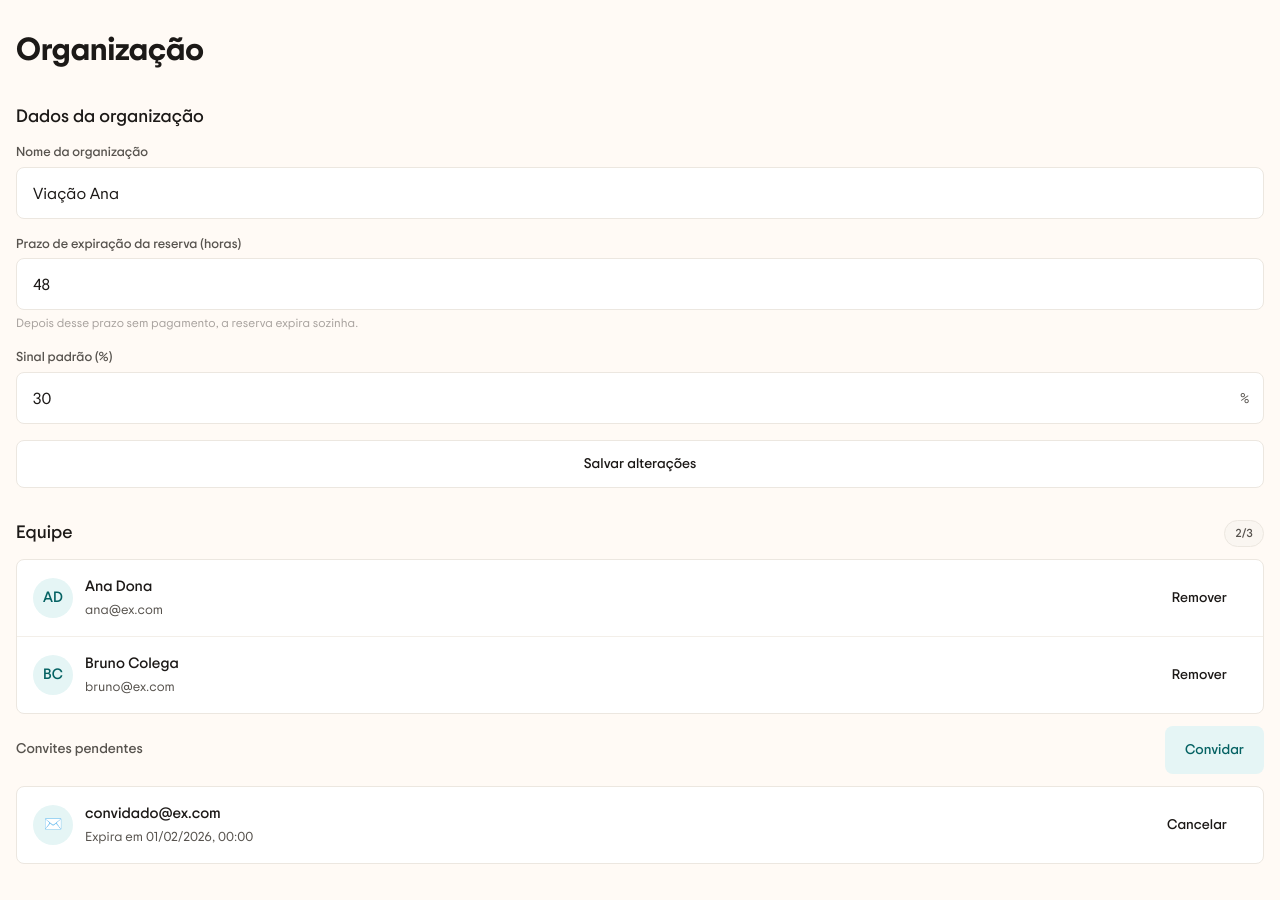
OrganizacaoPage › mostra o erro do backend ao tentar remover o último membro
Check: the text "Bruno Colega" is shown, box left=85, top=656, right=179, bottom=671
What coordinates should you click on to do the following:
click the button with aria-label "Remover Bruno Colega"
I would click on:
 (1199, 675)
Its box is left=1152, top=651, right=1247, bottom=699.
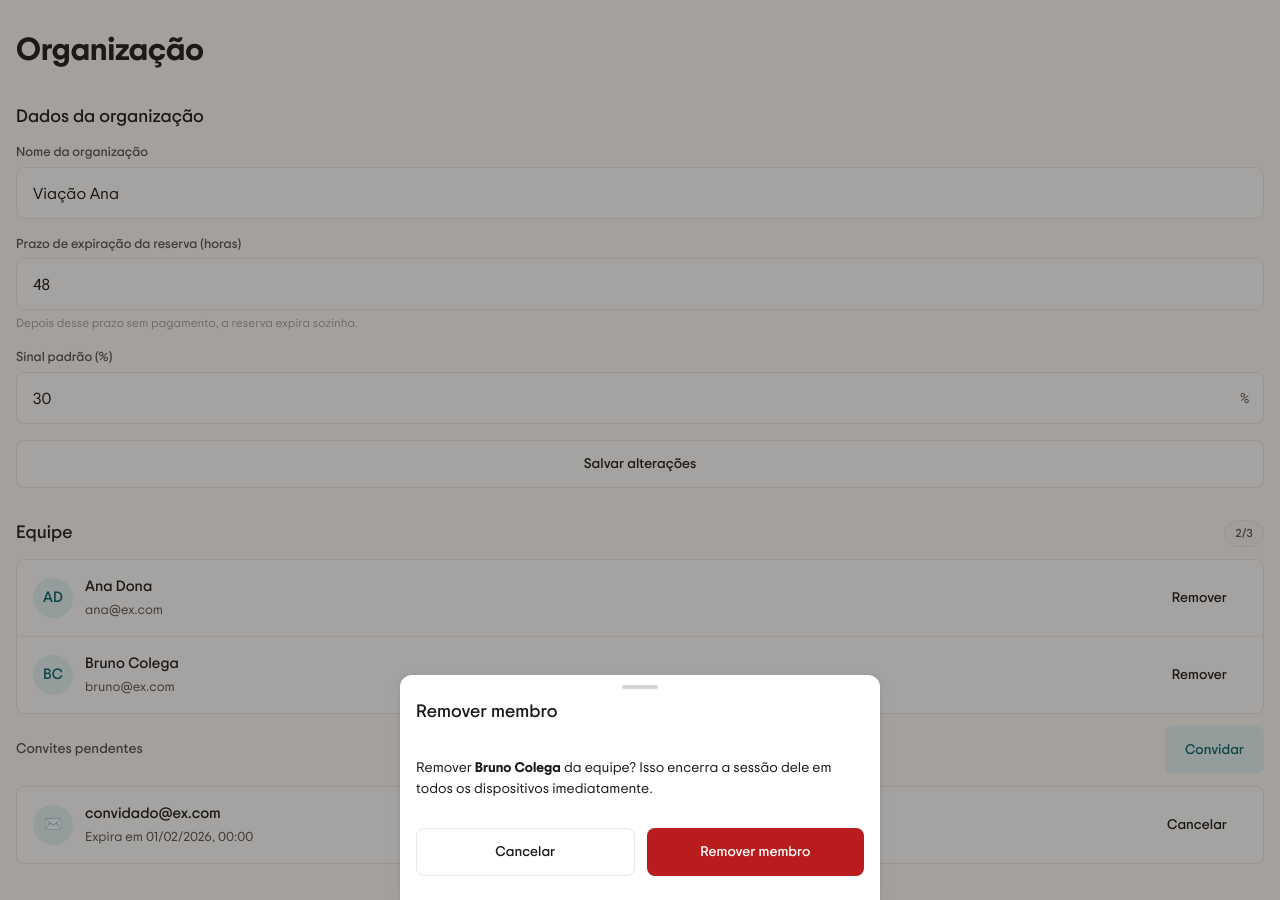
What coordinates should you click on to do the following:
click the button "Remover membro"
I would click on:
 (755, 852)
Its box is left=647, top=828, right=864, bottom=876.
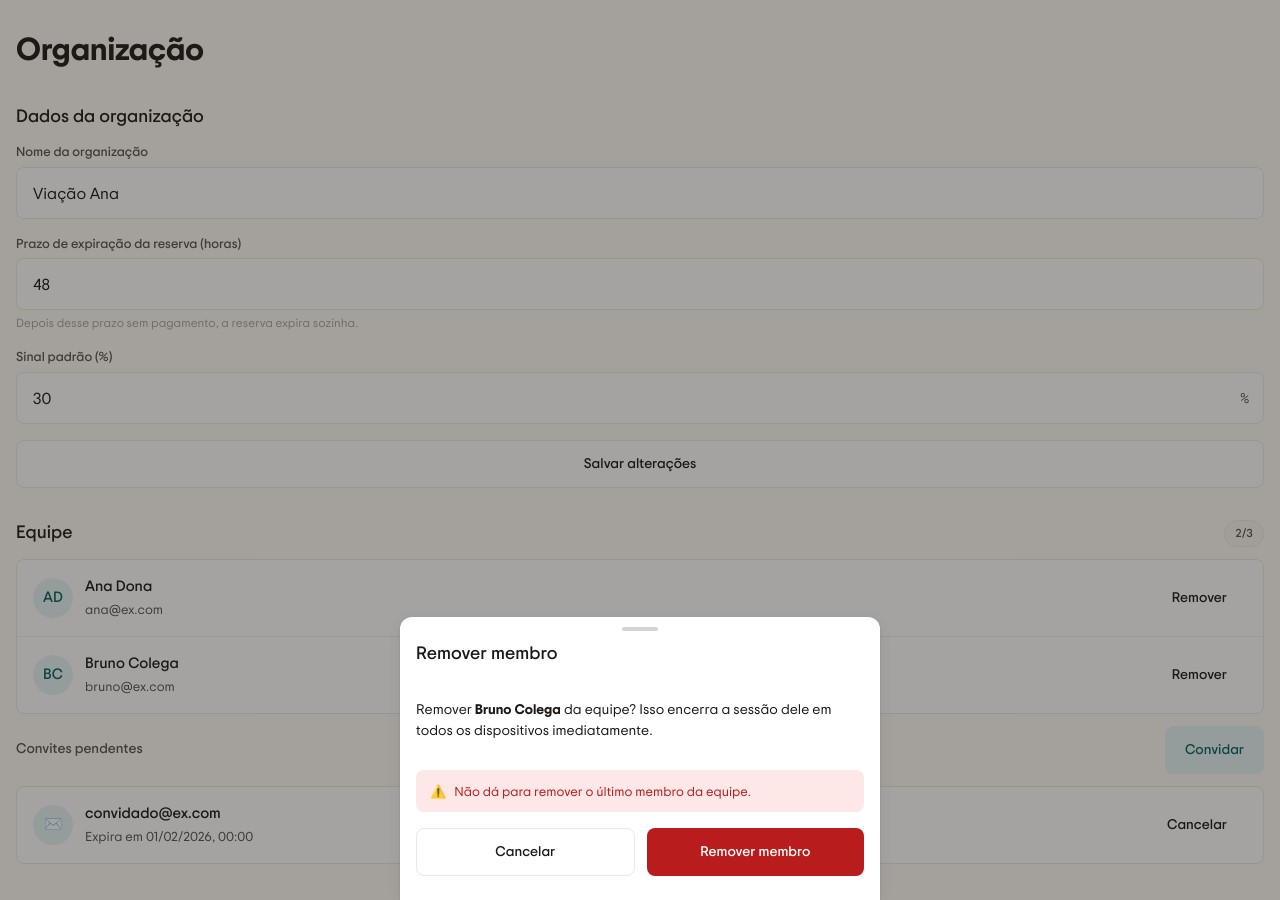
Check: the button with aria-label "Remover Bruno Colega" is shown, box left=1152, top=651, right=1247, bottom=699
Check: the text "Não dá para remover o último membro da equipe." is shown, box left=454, top=782, right=751, bottom=800
